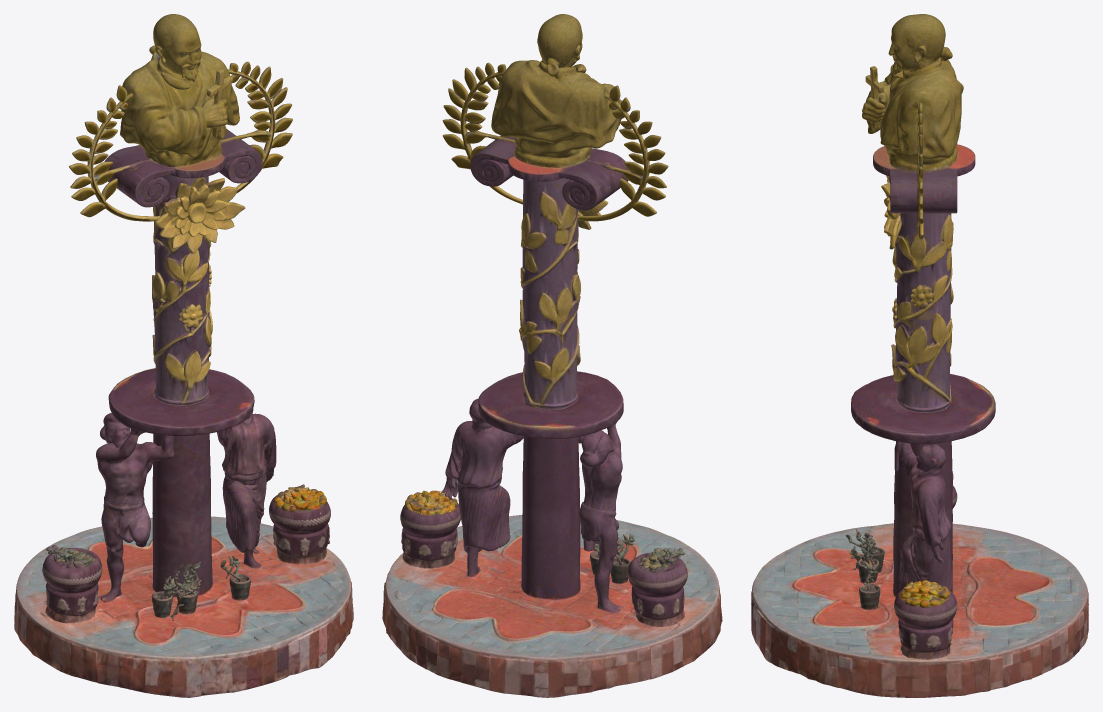
Rendered from La Pasionaria y San Ignacio-mobile.glb.
3 views of the same model, side by side, from view 1: azimuth 30°, elevation 25°; view 2: azimuth 150°, elevation 25°; view 3: azimuth 270°, elevation 25° (orthographic).
Bounding box in the file's own units: 0.9526 × 1.9 × 0.9492.
Materials: 1 (1 with a texture image).
